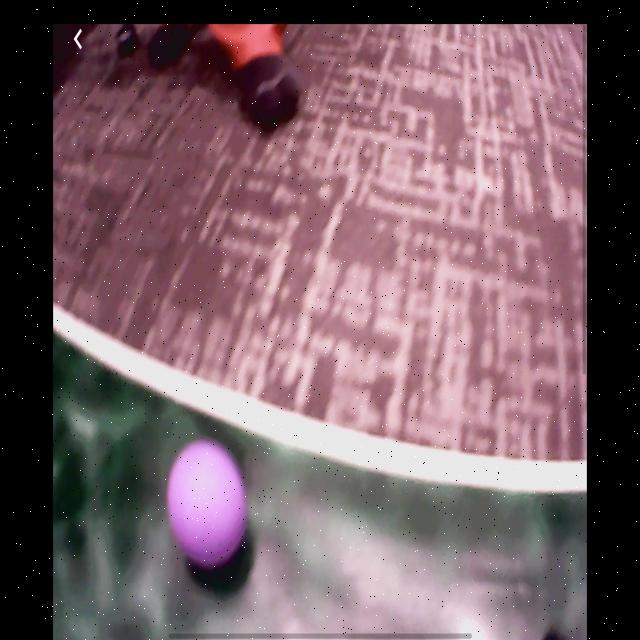ball: (166, 439, 249, 567)
